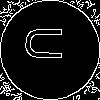U: (25, 25, 72, 62)
